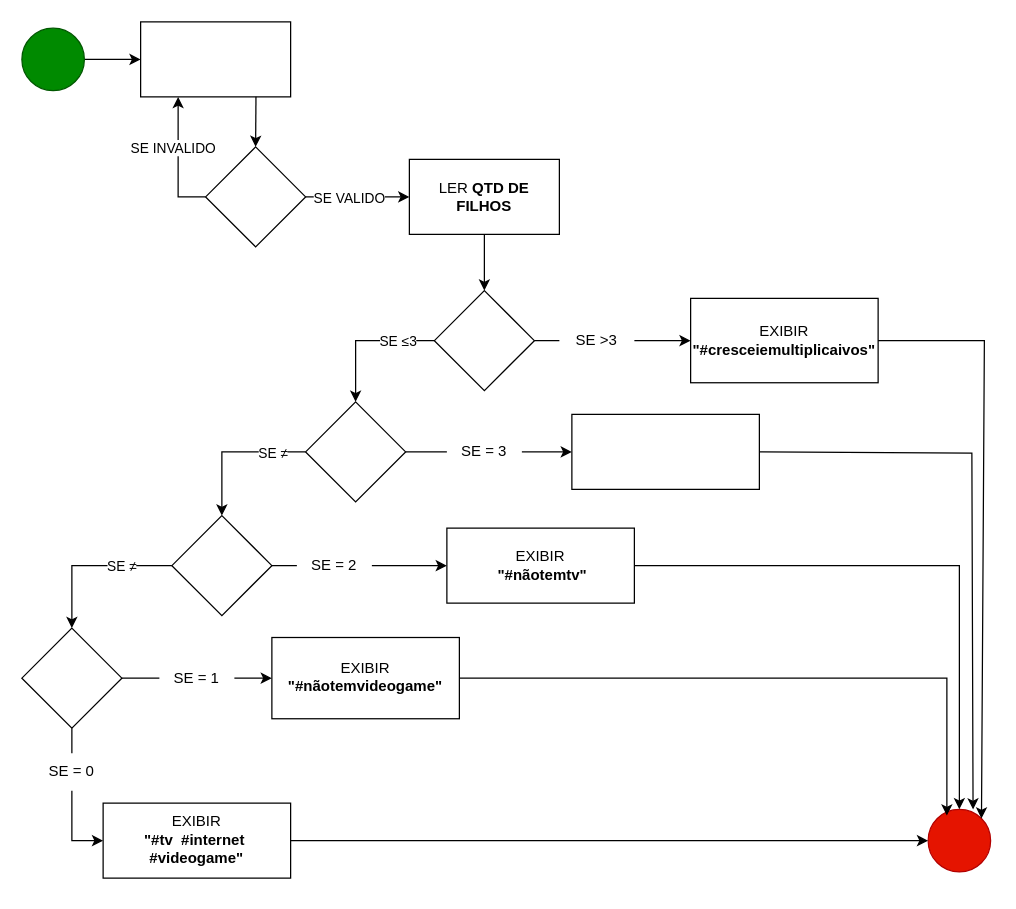
This 1016x909 diagram has some shape labels left out. Here are the shapes that lost their labels. From the top down, the box of each, then its label:
(139, 21, 291, 97): LER ESTADO BR
(571, 413, 759, 489): EXIBIR "#nãotemtv #nãoteminternet #nãotemvideogame"
